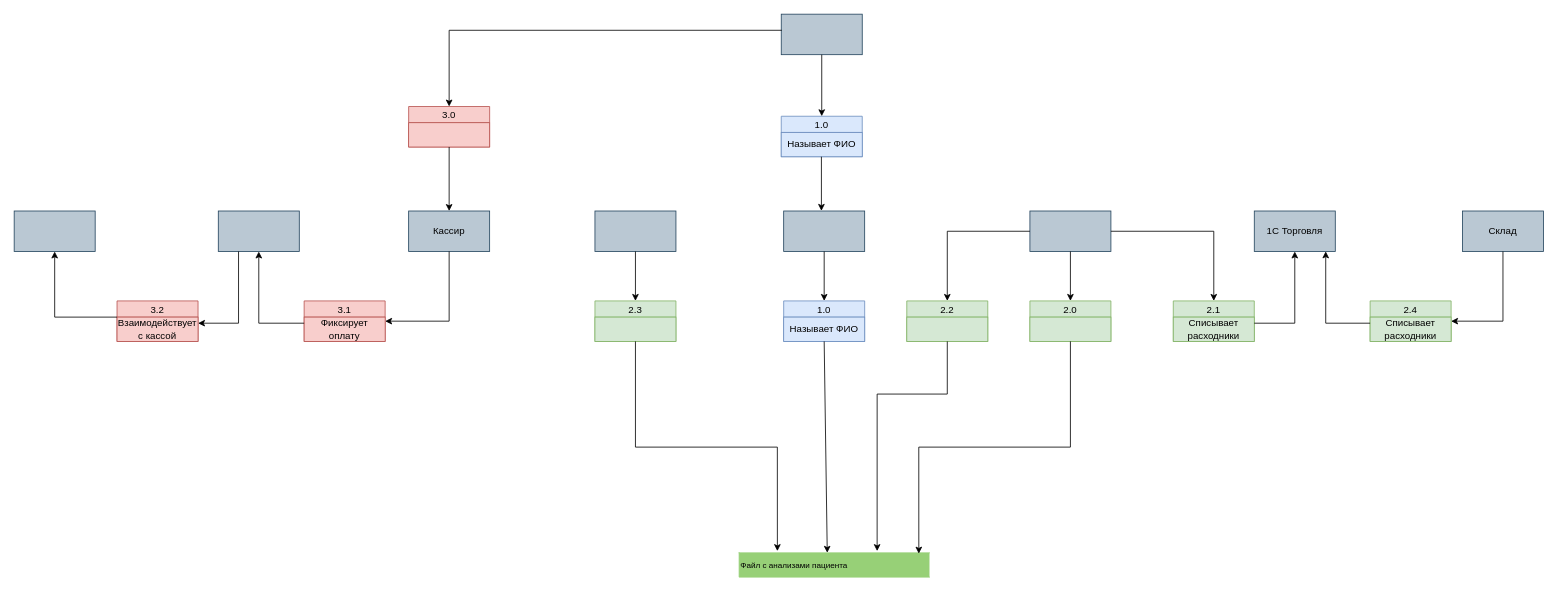
Image size: 1558x591. Some labels were removed from this diagram. Each missing label, with the centre of its shape:
"1С Бухгалтерия" belongs at point 258,231.
"Администратор" belongs at point 824,231.
"Видит результаты" belongs at point 635,328.
"Вносит результаты" belongs at point 947,328.
"Врач" belongs at point 635,231.
"ККМ" belongs at point 54,231.
"Мед. работник" belongs at point 1070,231.
"Пациент" belongs at point 821,34.
"Производит оплату" belongs at point 449,134.
"Читает и изменяет файл" belongs at point 1070,328.
